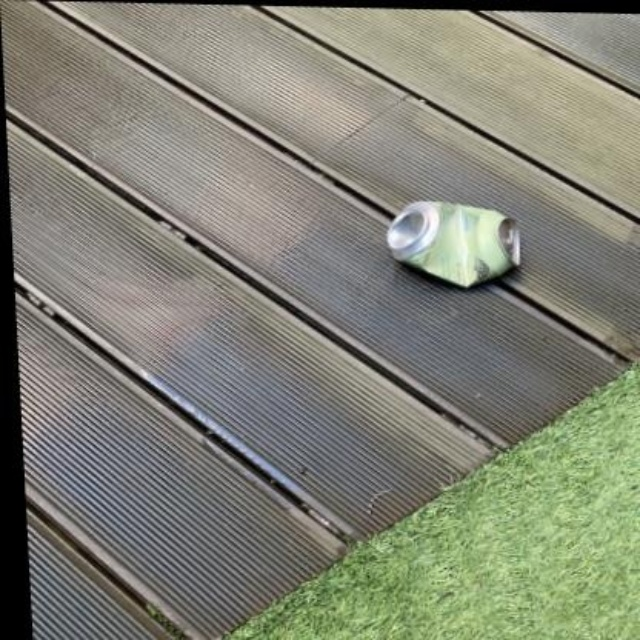trash: (388, 202, 518, 286)
